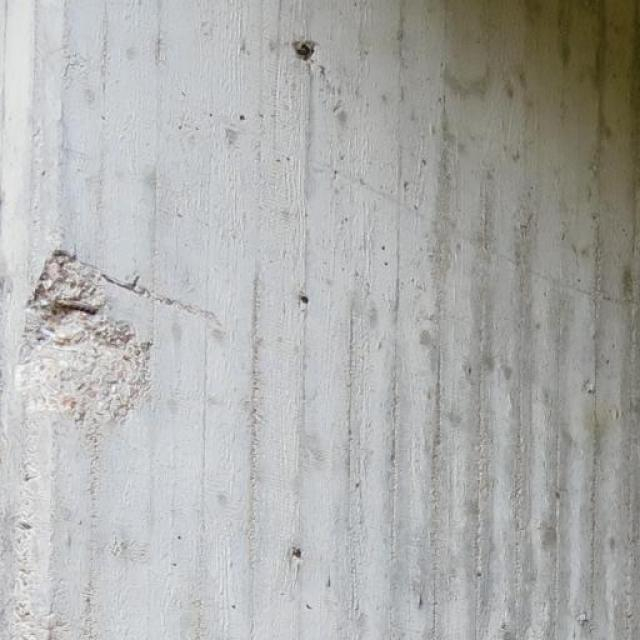D10: (16, 251, 150, 420)
